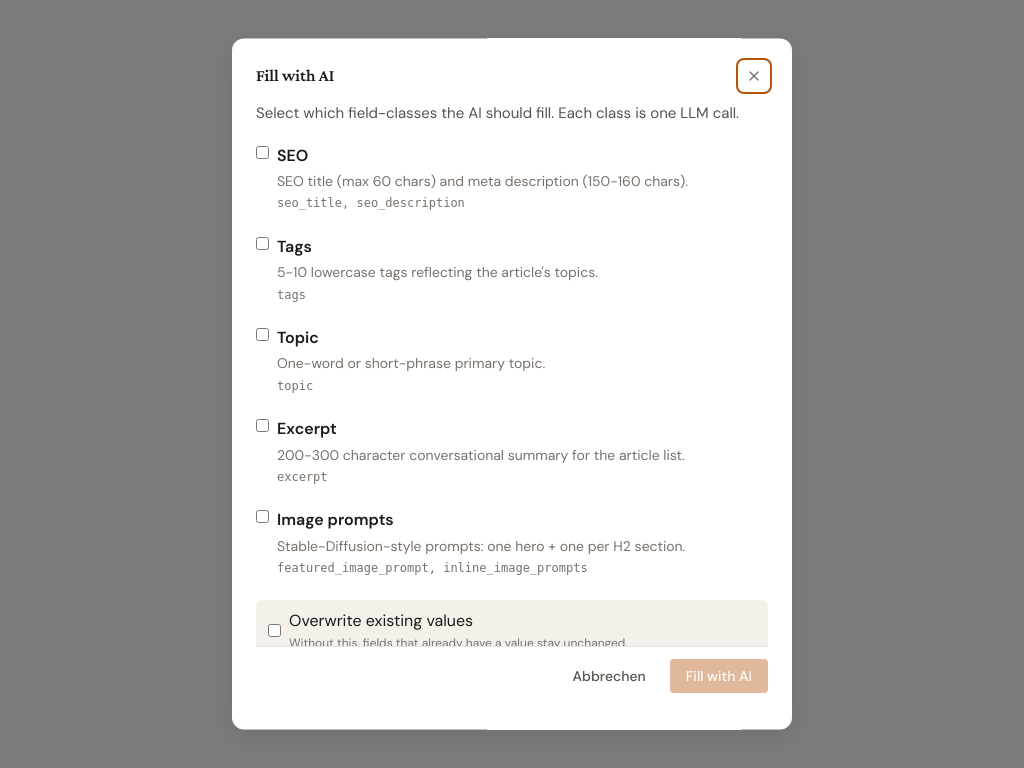
FieldClassDialog › checking a class twice toggles it off
Click the checkbox with test id "field-class-checkbox-seo": (262, 152) [256,146,269,159]
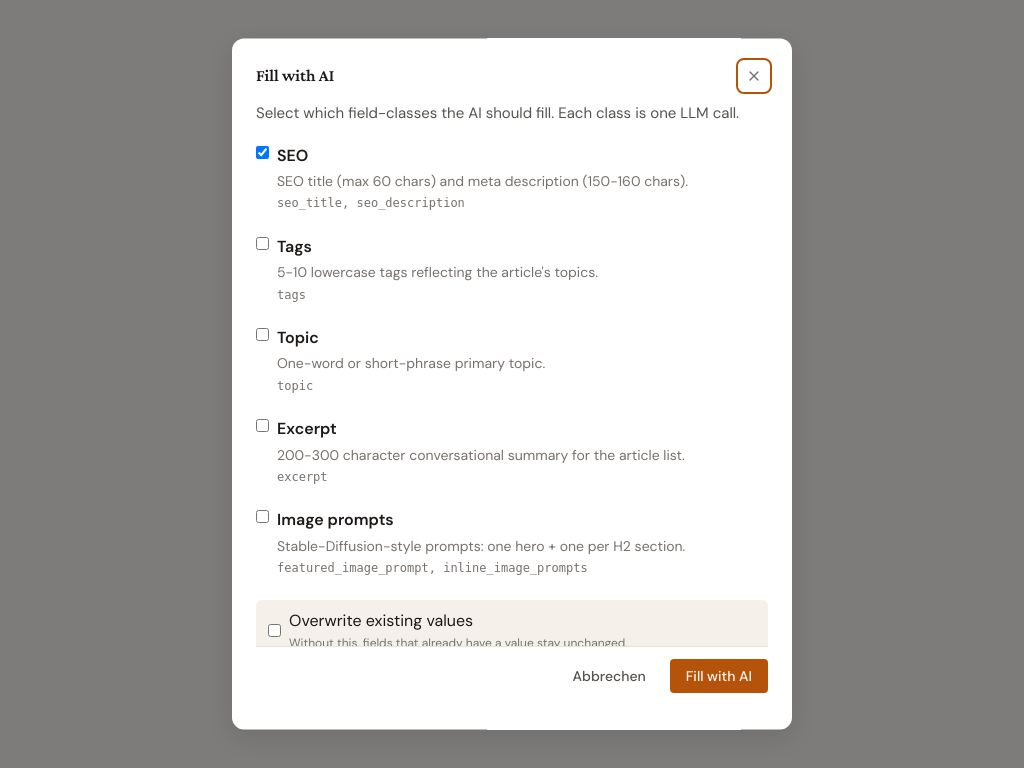
Click the checkbox with test id "field-class-checkbox-seo": (262, 152) [256,146,269,159]
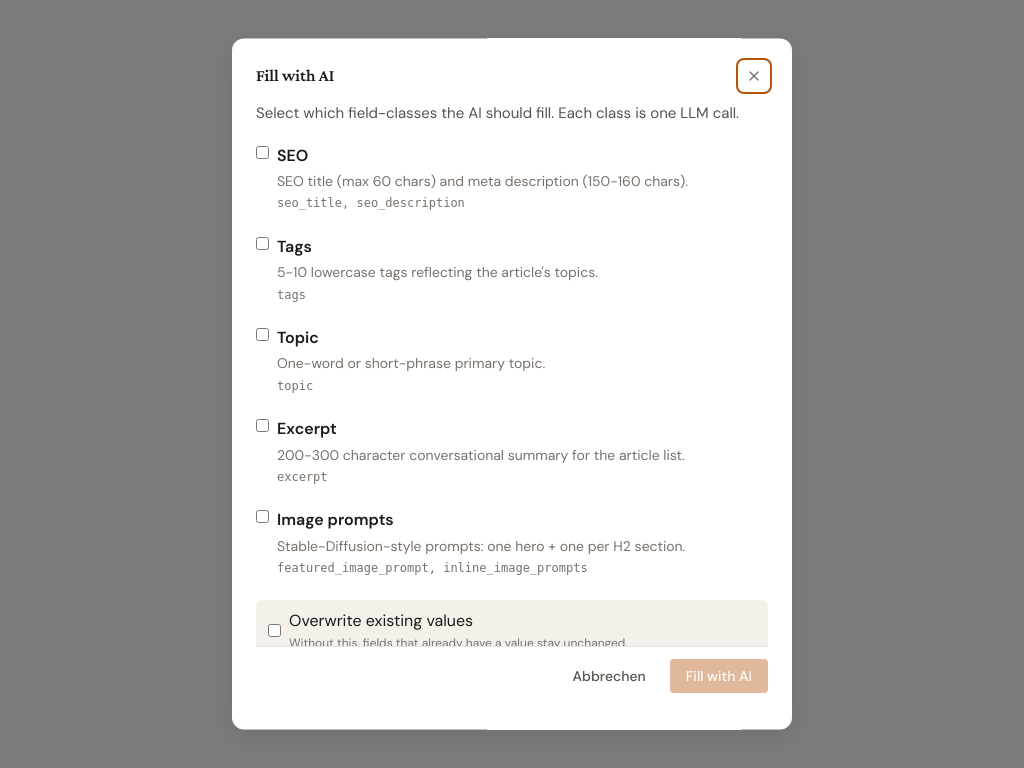
Expected: the button with test id "field-class-submit" is disabled, [670,660,768,694]
